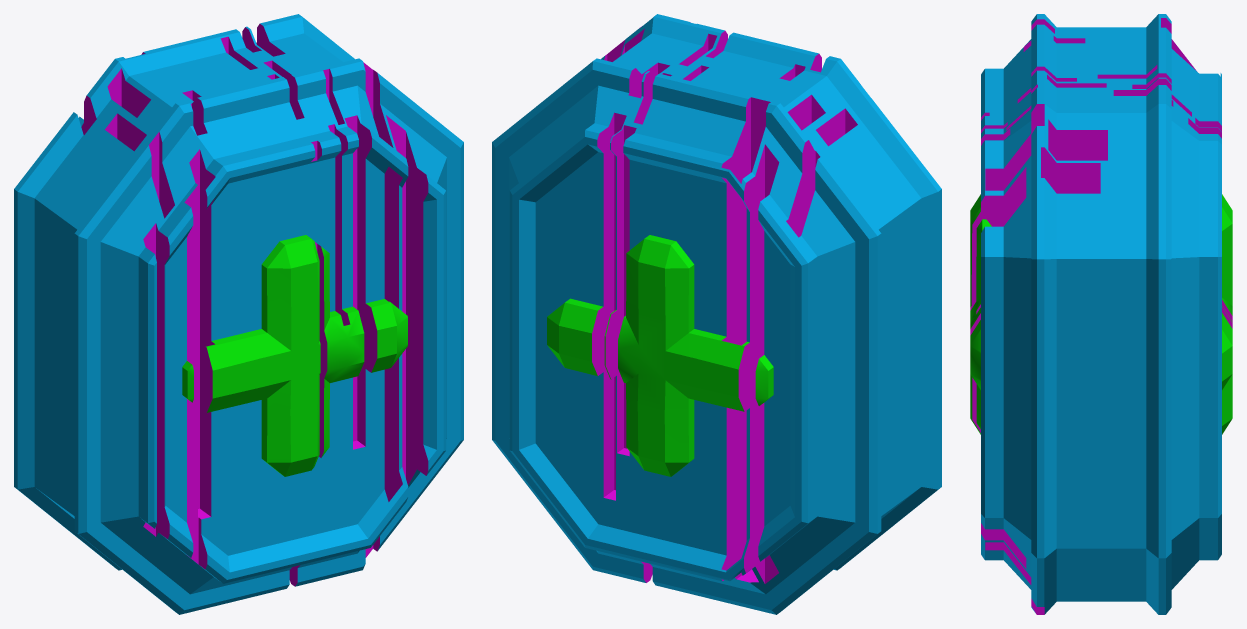
The model's file is Healthpack.fbx.
The picture shows the model from 3 angles, left to right: view 1: azimuth 30°, elevation 25°; view 2: azimuth 150°, elevation 25°; view 3: azimuth 270°, elevation 25°; orthographic projection.
Parts seen in each view (by area): view 1: pCube175; view 2: pCube175; view 3: pCube175.
Boxes of the visible parts, x1,y1,x2,y2 form: pCube175: (14,14,463,614); pCube175: (492,14,941,614); pCube175: (970,14,1232,614).
Size of the model in its own units: 0.7279 by 0.9184 by 0.4274.
